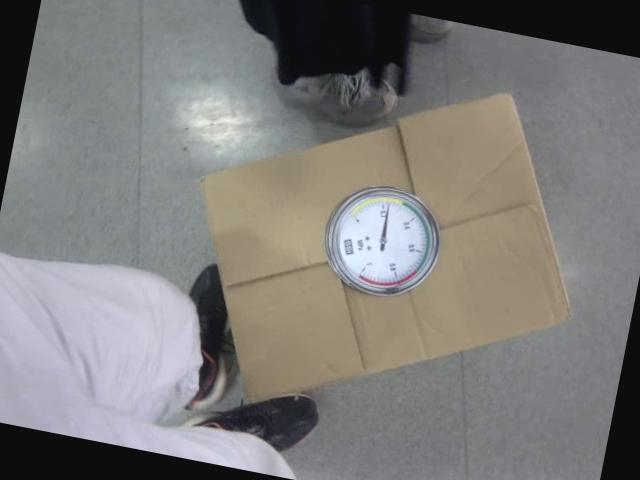Dashboard: (316, 177, 447, 304)
ssi: (338, 233, 357, 256)
